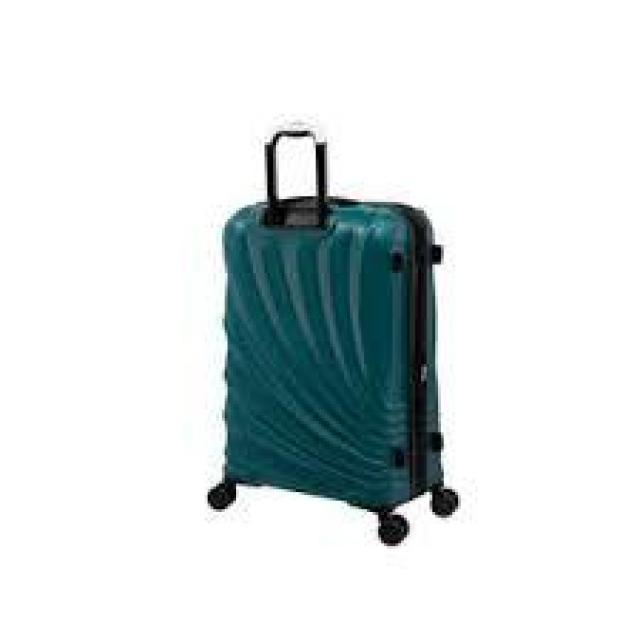luggage: (213, 188, 451, 514)
